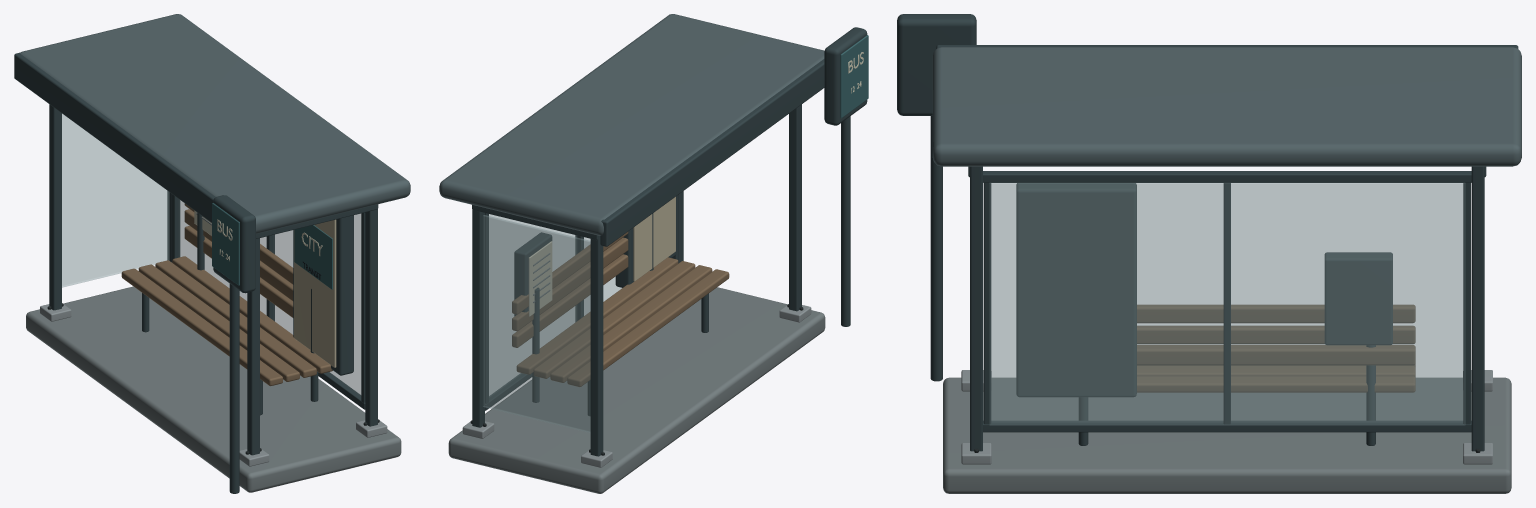
File: bus_stop.glb
3 views of the same model, side by side, from view 1: azimuth 30°, elevation 25°; view 2: azimuth 150°, elevation 25°; view 3: azimuth 270°, elevation 25° (orthographic). The views are drawn at different scales.
Parts seen in each view (by area): view 1: Station roof, Station concrete base, Station end glass, Station roof front fascia, Station poster face, Station back glass, Station poster frame, Station steel post.002, Station steel post.001, Station bench wooden slat, Station steel post, Station bench wooden slat.001 (+13 smaller); view 2: Station roof, Station concrete base, Station end glass, Station back glass, Station roof front fascia, Station steel post.001, Station steel post.003, Station bench wooden slat, Station steel post, Station bench wooden slat.001, Station bench wooden slat.002, Station poster face (+14 smaller); view 3: Station back glass, Station roof, Station concrete base, Station poster frame, Station timetable case, Station back horizontal rail, Station back horizontal rail.001, Station bench backrest slat, Station sign housing, Station bench wooden slat.003, Station bench backrest slat.001, Station bench backrest slat.002 (+9 smaller).
Part boxes in pixels (bbox=[...]): Station roof: bbox=[20, 14, 410, 233]; Station concrete base: bbox=[26, 286, 401, 492]; Station end glass: bbox=[62, 114, 169, 287]; Station roof front fascia: bbox=[14, 52, 215, 222]; Station poster face: bbox=[294, 219, 336, 367]; Station back glass: bbox=[179, 199, 361, 395]; Station poster frame: bbox=[293, 215, 353, 375]; Station steel post.002: bbox=[365, 209, 377, 426]; Station steel post.001: bbox=[49, 104, 61, 310]; Station bench wooden slat: bbox=[121, 268, 282, 386]; Station steel post: bbox=[247, 238, 259, 455]; Station bench wooden slat.001: bbox=[138, 264, 299, 381]; Station roof: bbox=[439, 14, 824, 235]; Station concrete base: bbox=[448, 287, 825, 493]; Station end glass: bbox=[483, 215, 590, 432]; Station back glass: bbox=[489, 214, 621, 396]; Station roof front fascia: bbox=[600, 59, 824, 246]; Station steel post.001: bbox=[590, 235, 603, 456]; Station steel post.003: bbox=[472, 210, 484, 427]; Station bench wooden slat: bbox=[567, 269, 729, 386]; Station steel post: bbox=[789, 104, 801, 311]; Station bench wooden slat.001: bbox=[550, 265, 712, 382]; Station bench wooden slat.002: bbox=[533, 261, 695, 378]; Station poster face: bbox=[633, 196, 675, 281]; Station back glass: bbox=[989, 183, 1465, 425]; Station roof: bbox=[932, 47, 1521, 166]; Station concrete base: bbox=[943, 377, 1511, 493]; Station poster frame: bbox=[1016, 183, 1136, 397]; Station timetable case: bbox=[1324, 252, 1392, 345]; Station back horizontal rail: bbox=[983, 420, 1471, 432]; Station back horizontal rail.001: bbox=[983, 171, 1471, 182]; Station bench backrest slat: bbox=[1137, 347, 1415, 365]; Station sign housing: bbox=[897, 14, 976, 115]; Station bench wooden slat.003: bbox=[1137, 376, 1415, 392]; Station bench backrest slat.001: bbox=[1137, 325, 1415, 344]; Station bench backrest slat.002: bbox=[1137, 304, 1415, 323].
Size of the model in its own units: 2 by 3.01 by 4.56.
